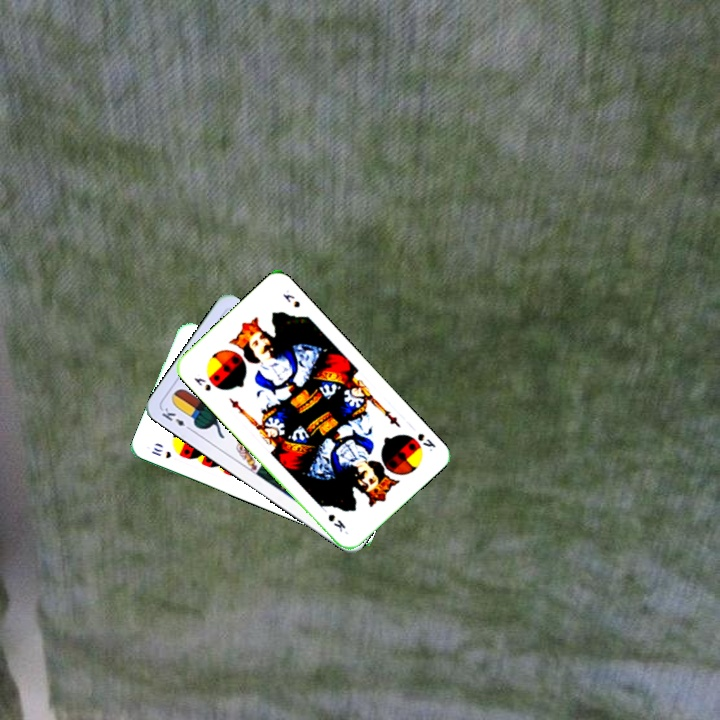EK: (157, 403, 195, 434)
S10: (148, 443, 174, 461)
SK: (413, 429, 439, 454), (190, 373, 214, 394)
